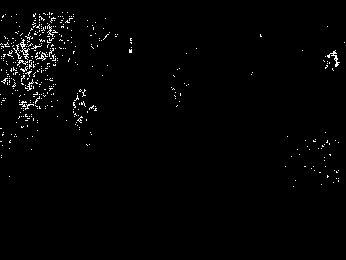person: (71, 87, 99, 146)
